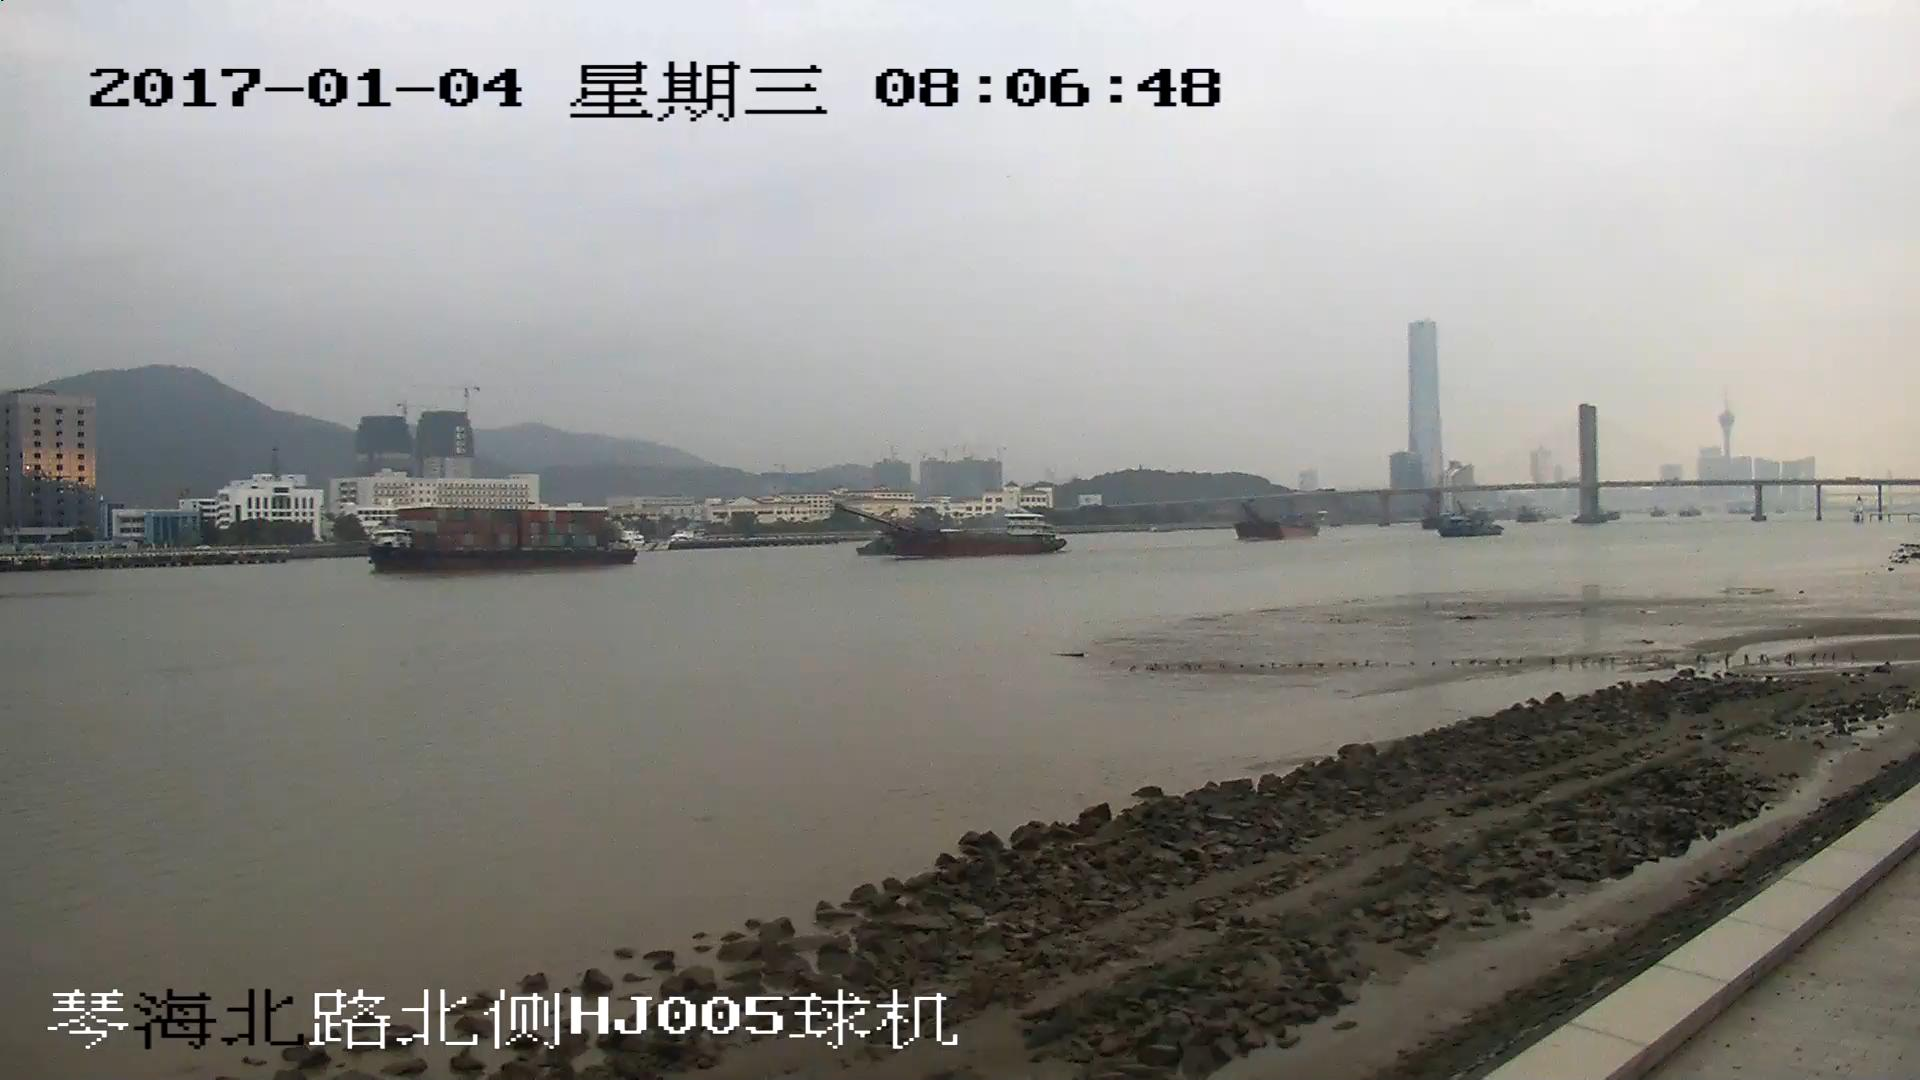bulk cargo carrier: (835, 501, 1061, 556)
container ship: (369, 505, 637, 572)
